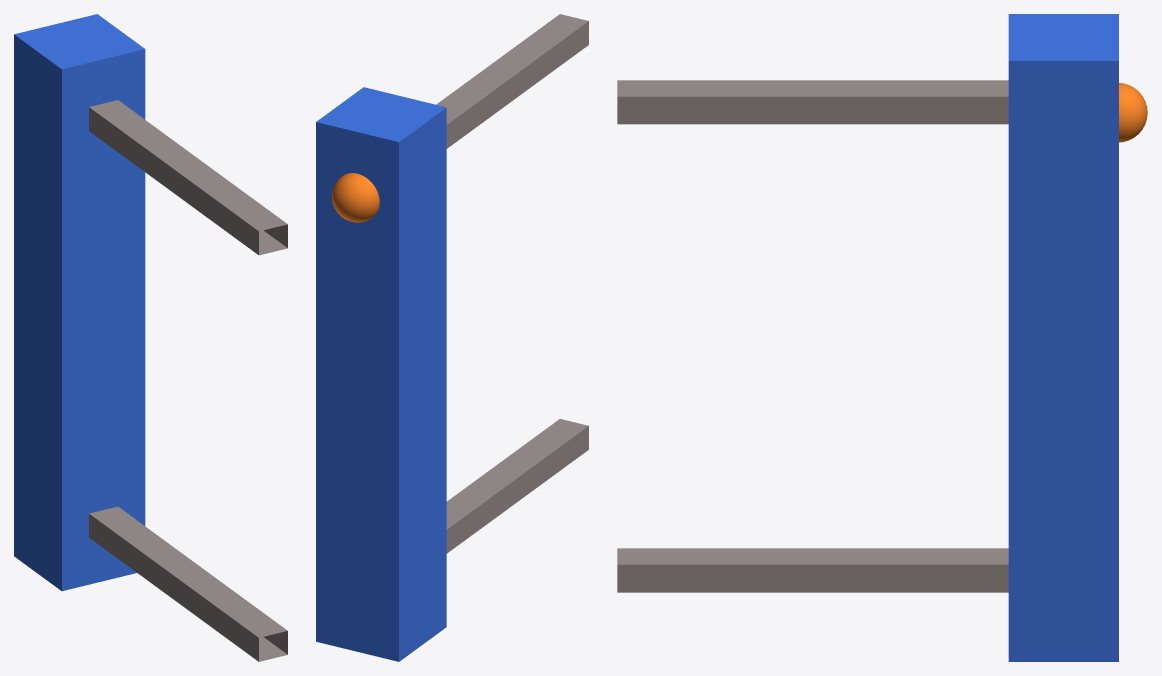
Rendered from LvDai4_Mo.fbx.
The picture shows the model from 3 angles, left to right: view 1: azimuth 30°, elevation 25°; view 2: azimuth 150°, elevation 25°; view 3: azimuth 270°, elevation 25°; orthographic projection. The views are drawn at different scales.
Parts seen in each view (by area): view 1: Box036; view 2: Box036; view 3: Box036.
Boxes of the visible parts, x1,y1,x2,y2 form: Box036: (14,14,287,661); Box036: (316,14,588,661); Box036: (617,14,1147,661).
Bounding box in the file's own units: 120 × 720 × 576.
Materials: 1 (1 with a texture image).
